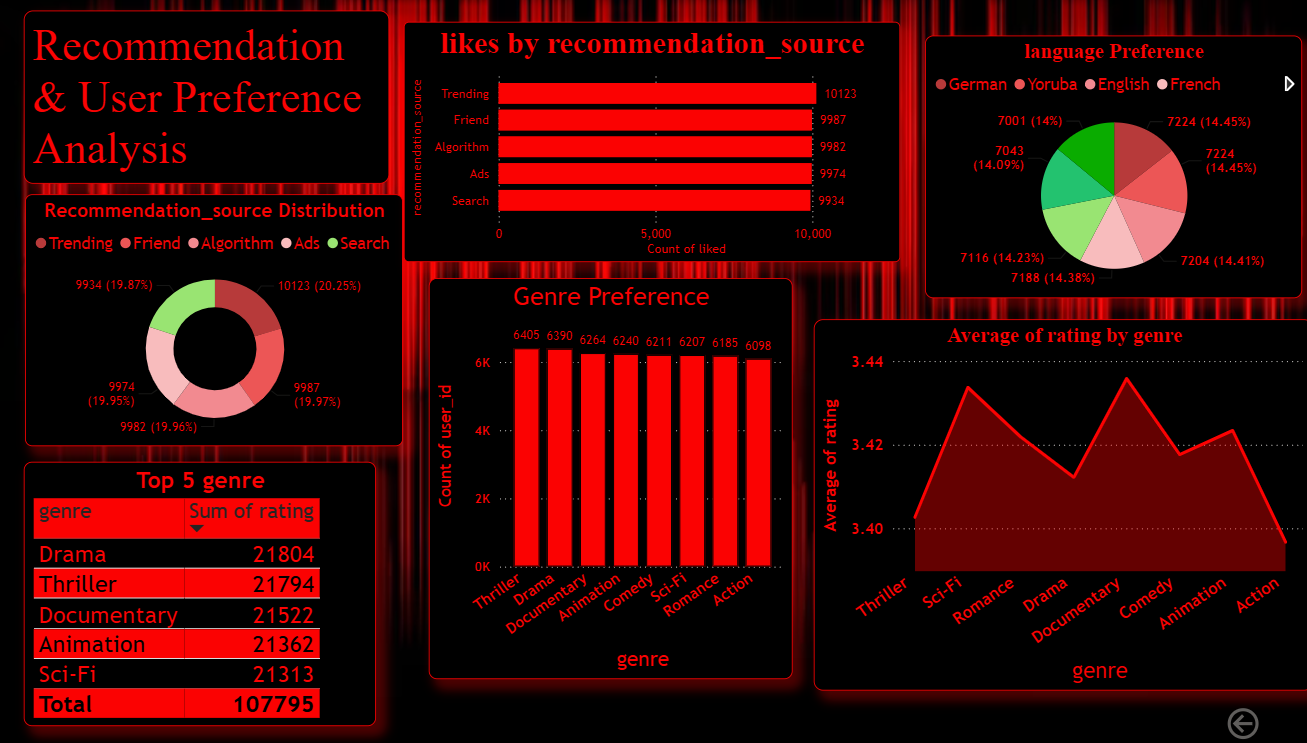

This screenshot's page, from the dashboard's own definition file:
{"tool":"powerbi","page":{"name":"RUP","canvas":[1280,720],"ordinal":4},"visuals":[{"type":"textbox","box":[23.3,12.3,352.7,167.4],"z":0},{"type":"donutChart","title":"Recommendation_source Distribution","fields":{"Category":["archive.recommendation_source"],"Y":["CountNonNull(archive.user_id)"]},"box":[24.7,189.4,365,242.9],"z":1000},{"type":"clusteredBarChart","title":"likes by recommendation_source","fields":{"Y":["CountNonNull(archive.liked)"],"Category":["archive.recommendation_source"]},"box":[389.7,23.3,478.9,231.9],"z":2000},{"type":"clusteredColumnChart","title":"Genre Preference","fields":{"Category":["archive.genre"],"Y":["CountNonNull(archive.user_id)"]},"box":[414.4,270.3,351.3,387],"z":3000},{"type":"pieChart","title":"language Preference","fields":{"Y":["CountNonNull(archive.user_id)"],"Category":["archive.language"]},"box":[893.3,35.7,363.6,253.9],"z":4000},{"type":"areaChart","fields":{"Y":["Avg(archive.rating)"],"Category":["archive.genre"]},"box":[784.9,310.1,483,358.1],"z":5000},{"type":"tableEx","title":"Top 5 genre","fields":{"Values":["archive.genre","Sum(archive.rating)"]},"box":[23.3,447.3,340.3,255.2],"z":6000},{"type":"actionButton","box":[1180.1,680.6,100.2,39.8],"z":7000}]}

Visuals, with their boxes in screenshot pixels (x1, y1, x2, y2), scaled from the page's 1280x720 canvas onto the 1307x743 screenshot:
textbox: rect(24, 13, 384, 185)
"Recommendation_source Distribution" donutChart: rect(25, 195, 398, 446)
"likes by recommendation_source" clusteredBarChart: rect(398, 24, 887, 263)
"Genre Preference" clusteredColumnChart: rect(423, 279, 782, 678)
"language Preference" pieChart: rect(912, 37, 1283, 299)
areaChart - Avg(archive.rating) x archive.genre: rect(801, 320, 1295, 690)
"Top 5 genre" tableEx: rect(24, 462, 371, 725)
actionButton: rect(1205, 702, 1306, 742)
